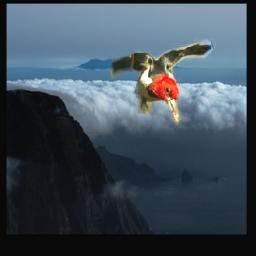Woodpecker: (110, 37, 218, 126)
